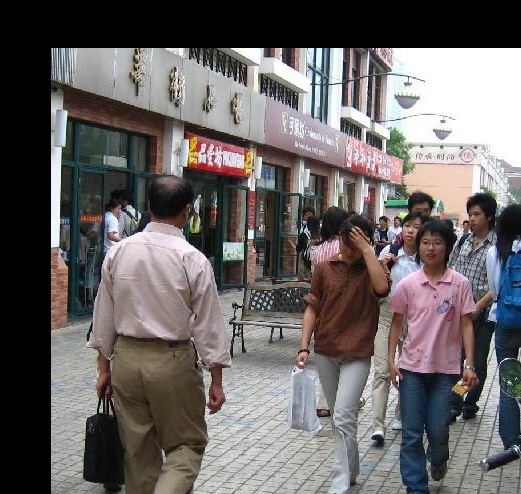person: (80, 164, 222, 494), (304, 212, 375, 494), (397, 219, 460, 494), (486, 204, 521, 444)
